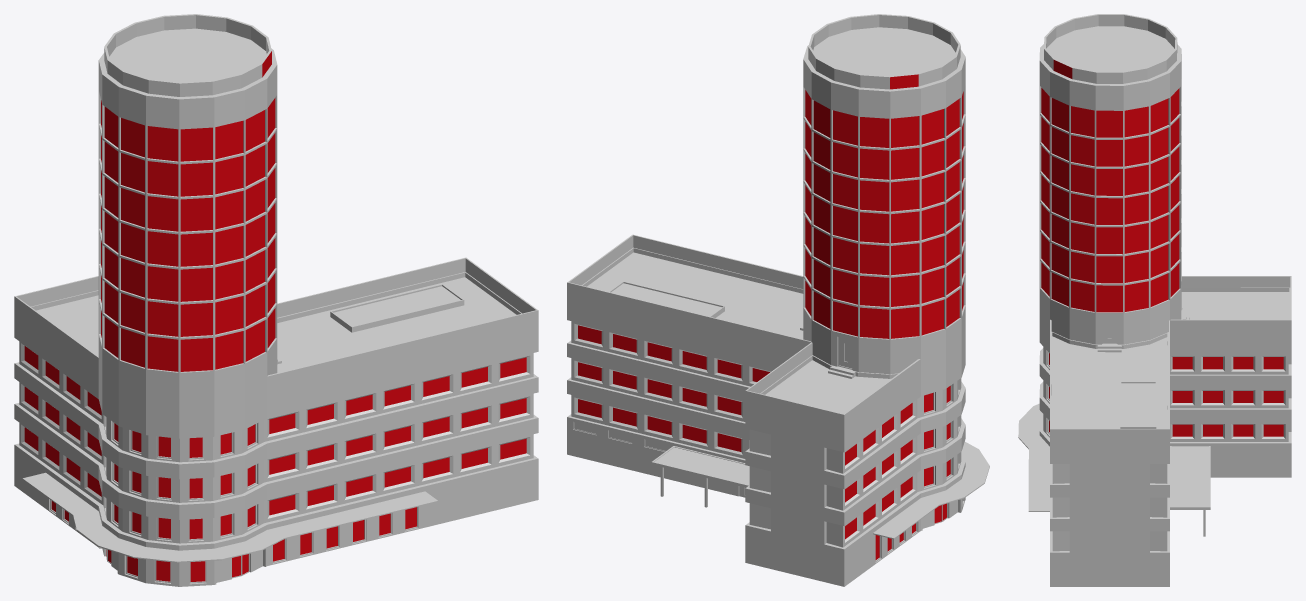
The model's file is SM_infrastructure_buildings_04.glb.
3 views of the same model, side by side, from view 1: azimuth 30°, elevation 25°; view 2: azimuth 150°, elevation 25°; view 3: azimuth 270°, elevation 25° (orthographic). The views are drawn at different scales.
Parts seen in each view (by area): view 1: infrastructure_buildings_04; view 2: infrastructure_buildings_04; view 3: infrastructure_buildings_04.
Part boxes in pixels (bbox=[...]): infrastructure_buildings_04: bbox=[14, 14, 538, 586]; infrastructure_buildings_04: bbox=[567, 14, 989, 586]; infrastructure_buildings_04: bbox=[1018, 14, 1291, 586].
Size of the model in its own units: 32 by 37 by 22.
